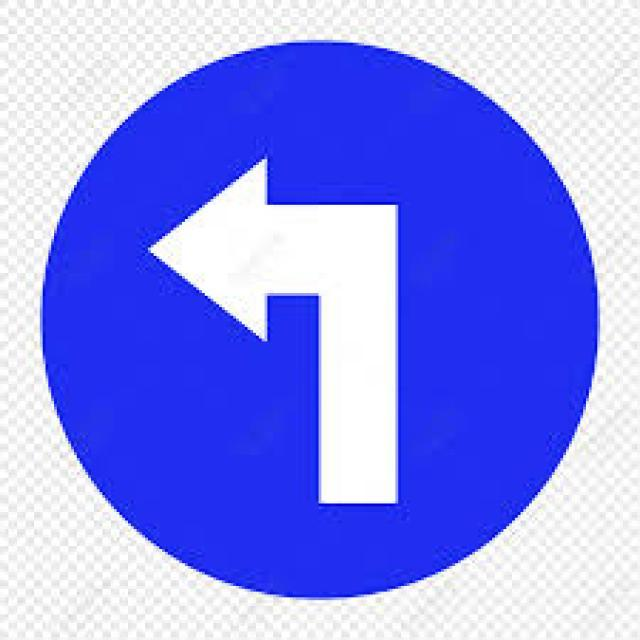compulsary turn left ahead: (30, 35, 609, 612)
